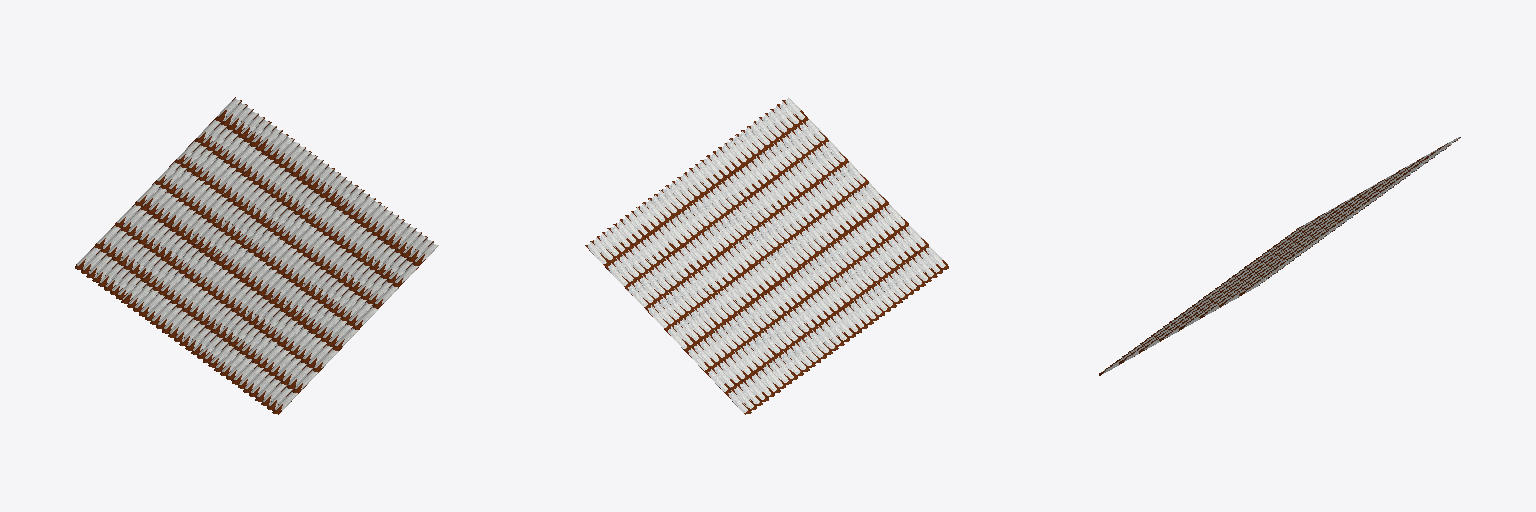
The picture shows the model from 3 angles: view 1: azimuth 30°, elevation 25°; view 2: azimuth 150°, elevation 25°; view 3: azimuth 330°, elevation 25°; orthographic projection.
Visible parts, largest first — view 1: ROOF_ROOF_T; view 2: ROOF_ROOF_T; view 3: ROOF_ROOF_T.
Part boxes in pixels (bbox=[...]): ROOF_ROOF_T: bbox=[75, 97, 438, 414]; ROOF_ROOF_T: bbox=[585, 97, 948, 414]; ROOF_ROOF_T: bbox=[1099, 137, 1460, 375].
Bounding box in the file's own units: 263 × 200 × 566.
Materials: 1 (1 with a texture image).